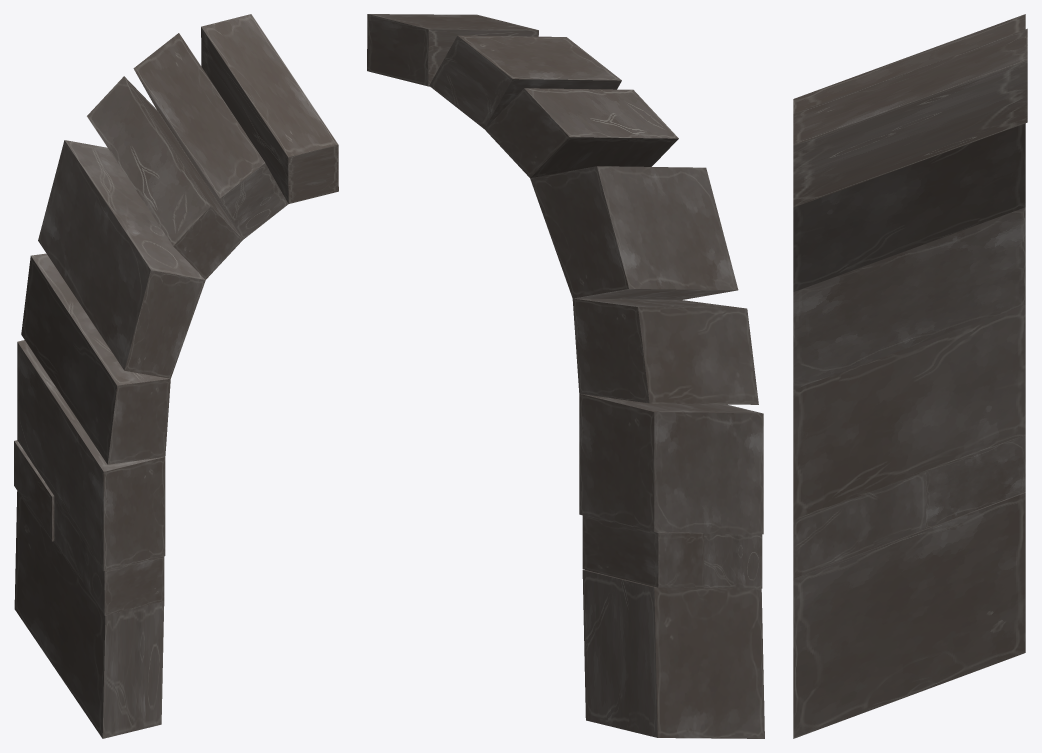
3 renders of one model, left to right at view 1: azimuth 30°, elevation 25°; view 2: azimuth 150°, elevation 25°; view 3: azimuth 270°, elevation 25°, orthographic. The views are drawn at different scales.
Parts seen in each view (by area): view 1: polySurface421, polySurface415, polySurface410, polySurface408, polySurface418, polySurface422, polySurface420, polySurface416, polySurface417; view 2: polySurface415, polySurface410, polySurface421, polySurface408, polySurface420, polySurface422, polySurface417, polySurface418, polySurface416; view 3: polySurface415, polySurface410, polySurface408, polySurface418, polySurface421, polySurface416, polySurface417, polySurface422.
Part boxes in pixels (bbox=[...]): polySurface421: bbox=[38, 140, 205, 378]; polySurface415: bbox=[14, 491, 164, 738]; polySurface410: bbox=[17, 340, 165, 570]; polySurface408: bbox=[21, 253, 170, 464]; polySurface418: bbox=[201, 14, 338, 203]; polySurface422: bbox=[133, 33, 288, 239]; polySurface420: bbox=[87, 76, 242, 279]; polySurface416: bbox=[54, 497, 164, 615]; polySurface417: bbox=[14, 440, 54, 541]; polySurface415: bbox=[582, 570, 764, 738]; polySurface410: bbox=[579, 393, 763, 534]; polySurface421: bbox=[530, 166, 738, 299]; polySurface408: bbox=[572, 298, 758, 404]; polySurface420: bbox=[484, 88, 678, 178]; polySurface422: bbox=[429, 35, 621, 128]; polySurface417: bbox=[582, 515, 704, 588]; polySurface418: bbox=[367, 14, 538, 86]; polySurface416: bbox=[704, 533, 762, 588]; polySurface415: bbox=[793, 492, 1025, 738]; polySurface410: bbox=[793, 305, 1025, 520]; polySurface408: bbox=[793, 207, 1025, 389]; polySurface418: bbox=[793, 28, 1027, 207]; polySurface421: bbox=[793, 123, 1025, 291]; polySurface416: bbox=[793, 472, 925, 578]; polySurface417: bbox=[926, 435, 1025, 528]; polySurface422: bbox=[793, 14, 1025, 113].
Size of the model in its own units: 1.56 by 3.77 by 1.01.
